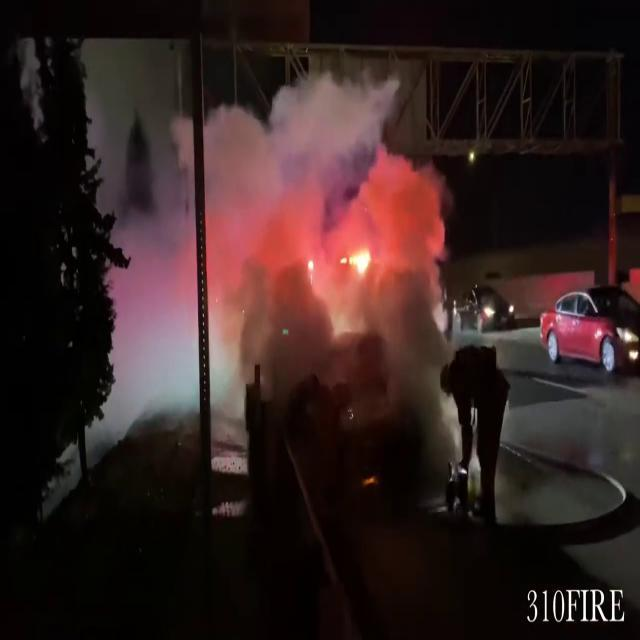Smoke: (101, 58, 452, 436)
